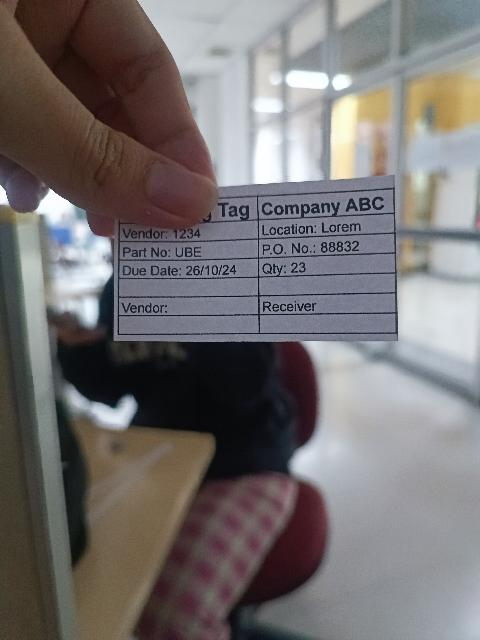PO no: (259, 234, 395, 258)
part no: (120, 239, 259, 261)
qty: (259, 252, 395, 277)
tags: (113, 177, 397, 341)
